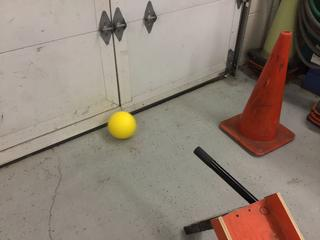power_cell: (105, 110, 140, 142)
